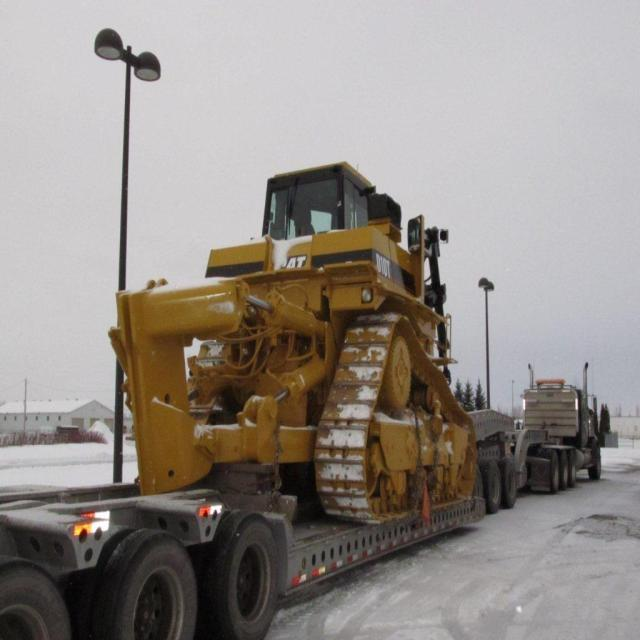buldozerpayloadergrader: (98, 139, 509, 526)
